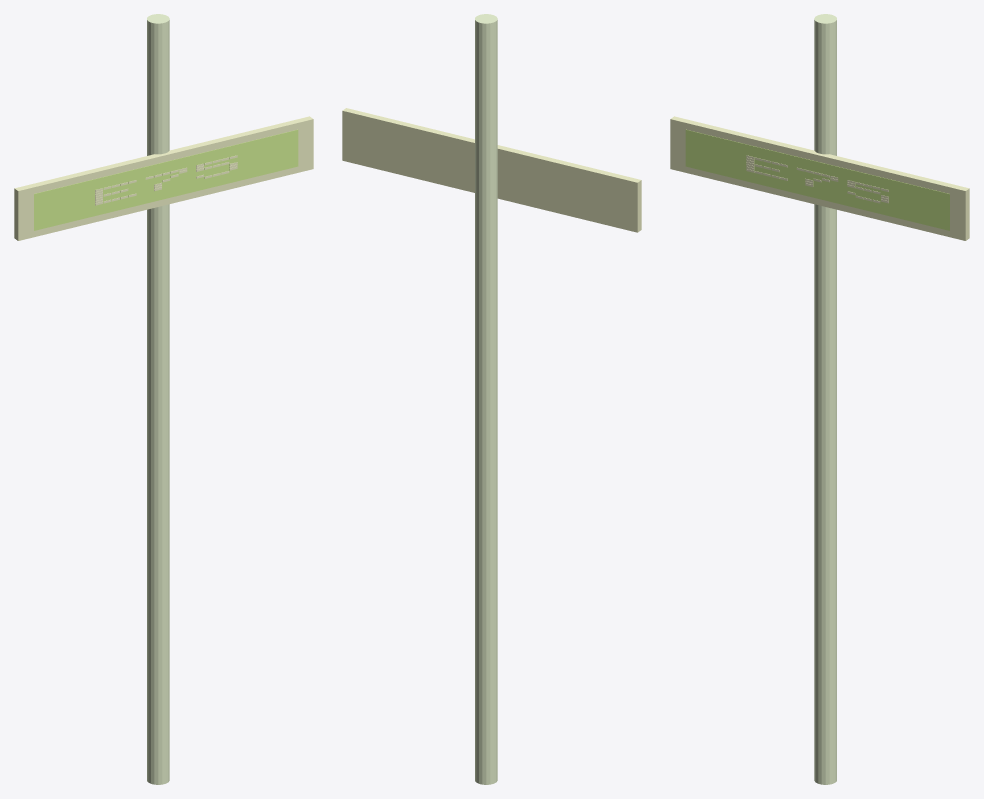
The model's file is sign_route_e75_shield.glb.
The picture shows the model from 3 angles, left to right: view 1: azimuth 30°, elevation 25°; view 2: azimuth 150°, elevation 25°; view 3: azimuth 330°, elevation 25°; orthographic projection.
Visible parts, largest first — view 1: pole, layer_1_00, plate_base_00; view 2: pole, plate_base_00; view 3: pole, layer_1_00, plate_base_00.
Part boxes in pixels (x1,y1,x2,y2): pole: (147,14,169,784); layer_1_00: (34,129,298,230); plate_base_00: (14,116,313,240); pole: (475,14,497,784); plate_base_00: (342,108,641,232); pole: (814,14,836,784); layer_1_00: (685,129,949,230); plate_base_00: (670,116,969,240).
Bounding box in the file's own units: 0.893 × 2.2 × 0.0725.
